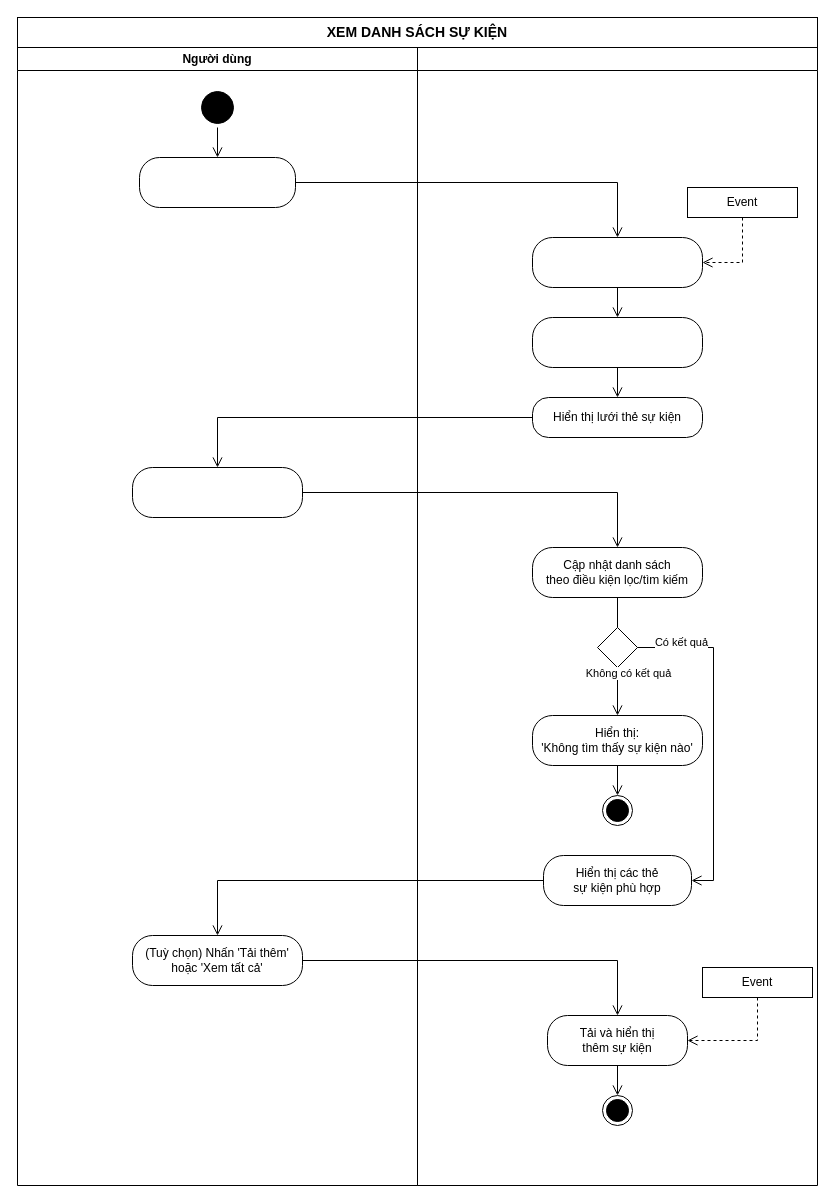
Image size: 835x1203. Some labels were removed from this diagram. The box of each missing label's shape, as (x1, y1, x2, y2) in pixels:
(Tuỳ chọn) Lọc theo trạng thái hoặc tìm kiếm theo tên: (132, 466, 302, 518)
Hiển thị sự kiện nổi bật (sắp diễn ra gần nhất): (532, 316, 702, 368)
Hệ thống: (416, 46, 818, 1186)
Truy cập màn hình 'Sự kiện': (138, 156, 296, 208)
Tải danh sách sự kiện (không ở trạng thái nháp): (532, 236, 702, 288)
